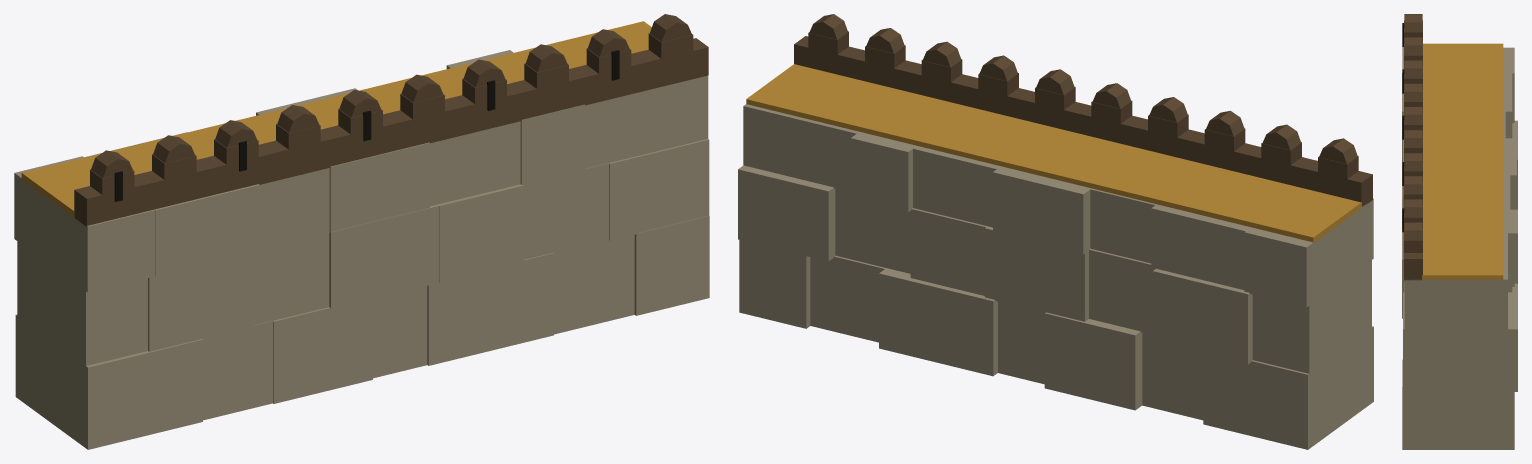
The model's file is BronzeWallStraight.fbx.
The picture shows the model from 3 angles, left to right: view 1: azimuth 30°, elevation 25°; view 2: azimuth 150°, elevation 25°; view 3: azimuth 270°, elevation 25°; orthographic projection. The views are drawn at different scales.
Visible parts, largest first — view 1: BronzeWallStraight; view 2: BronzeWallStraight; view 3: BronzeWallStraight.
Part boxes in pixels (x1=…): BronzeWallStraight: x1=14, y1=14, x2=709, y2=449; BronzeWallStraight: x1=738, y1=14, x2=1373, y2=449; BronzeWallStraight: x1=1402, y1=14, x2=1517, y2=449.
Size of the model in its own units: 1202 by 521 by 254.
4 materials, 4 textured.
